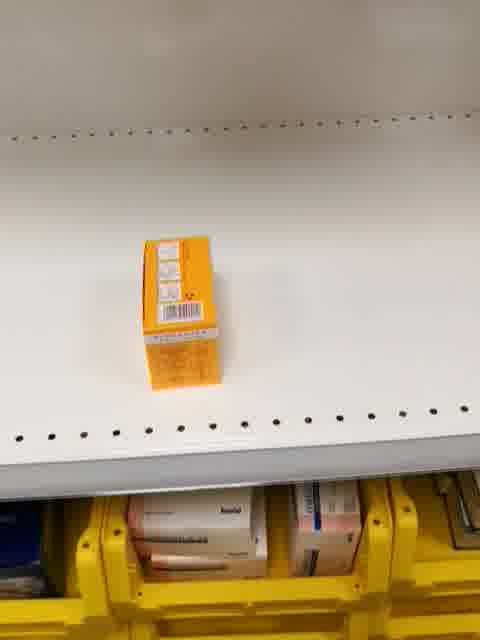jasminetea: (138, 235, 224, 392)
